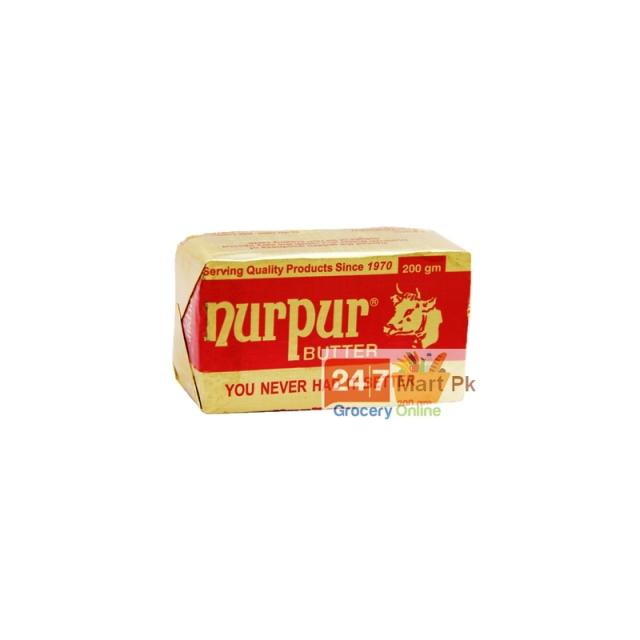butter: (171, 225, 471, 414)
